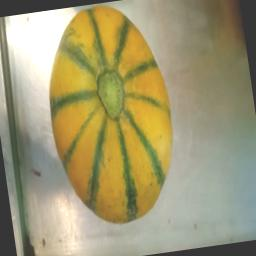Melon Ripe: (26, 0, 194, 237)
